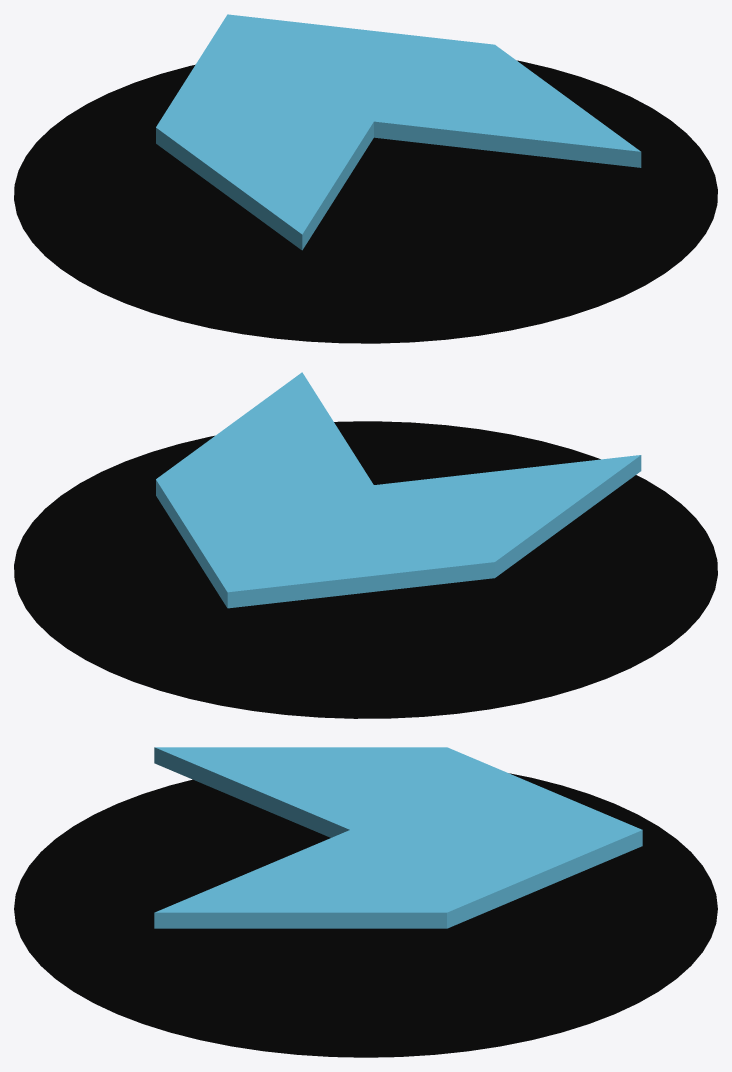
File: SETA.fbx
3 views of the same model, one above another, from view 1: azimuth 30°, elevation 25°; view 2: azimuth 150°, elevation 25°; view 3: azimuth 270°, elevation 25° (orthographic).
Parts seen in each view (by area): view 1: Cylinder.001, Cube.001; view 2: Cylinder.001, Cube.001; view 3: Cylinder.001, Cube.001.
Boxes of the visible parts, x1,y1,x2,y2 form: Cylinder.001: [14, 60, 717, 343]; Cube.001: [156, 14, 641, 250]; Cylinder.001: [14, 421, 717, 718]; Cube.001: [156, 372, 641, 608]; Cylinder.001: [14, 773, 717, 1057]; Cube.001: [154, 747, 642, 928].
Size of the model in its own units: 21.99 by 2.72 by 21.99.
